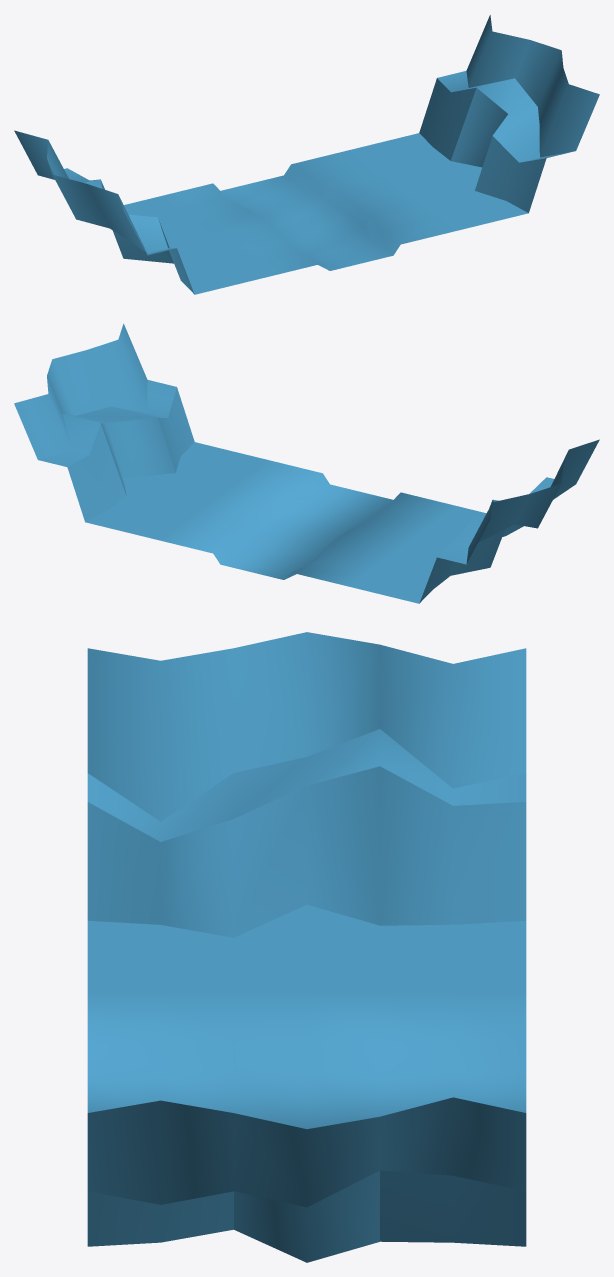
Rendered from unified_platform.FBX.
The picture shows the model from 3 angles, top to bottom: view 1: azimuth 30°, elevation 25°; view 2: azimuth 150°, elevation 25°; view 3: azimuth 270°, elevation 25°; orthographic projection. The views are drawn at different scales.
Parts seen in each view (by area): view 1: terreno010; view 2: terreno010; view 3: terreno010.
Part boxes in pixels (box(x1,y1,x2,y2)): terreno010: box(14, 15, 599, 294); terreno010: box(14, 323, 599, 603); terreno010: box(87, 632, 526, 1262).
Bounding box in the file's own units: 29.05 × 6.04 × 10.83.
